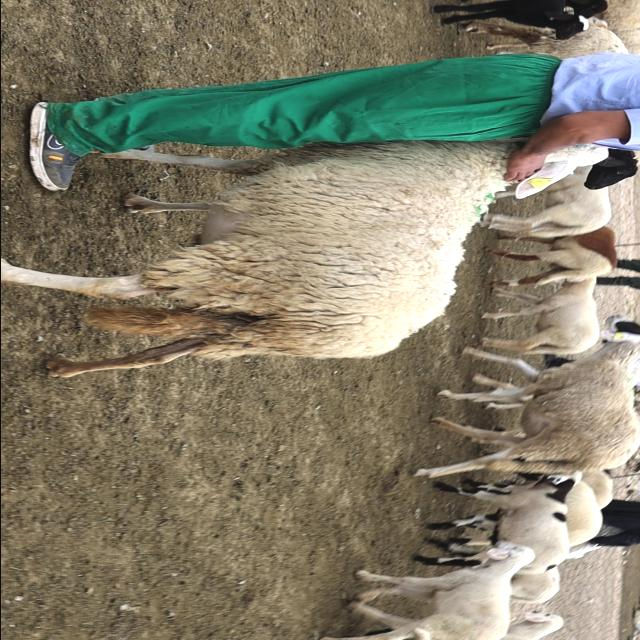Score_5: (1, 139, 516, 377)
